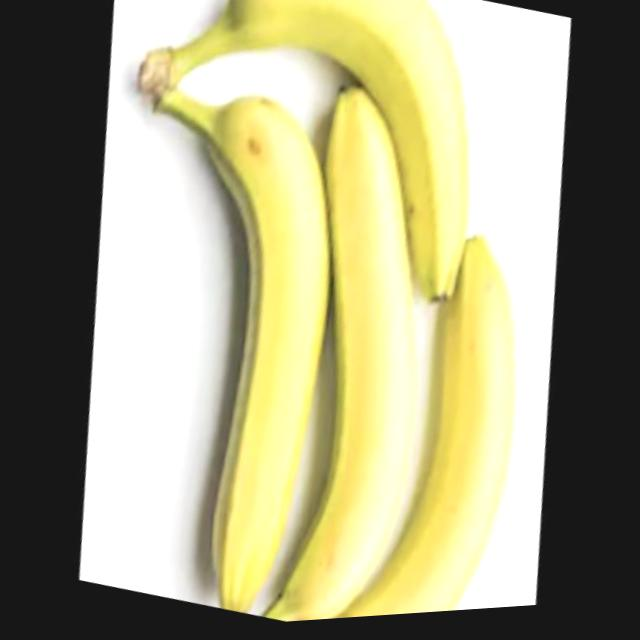Banana: (24, 65, 393, 633), (193, 68, 499, 630), (94, 0, 529, 332), (319, 224, 561, 623)
